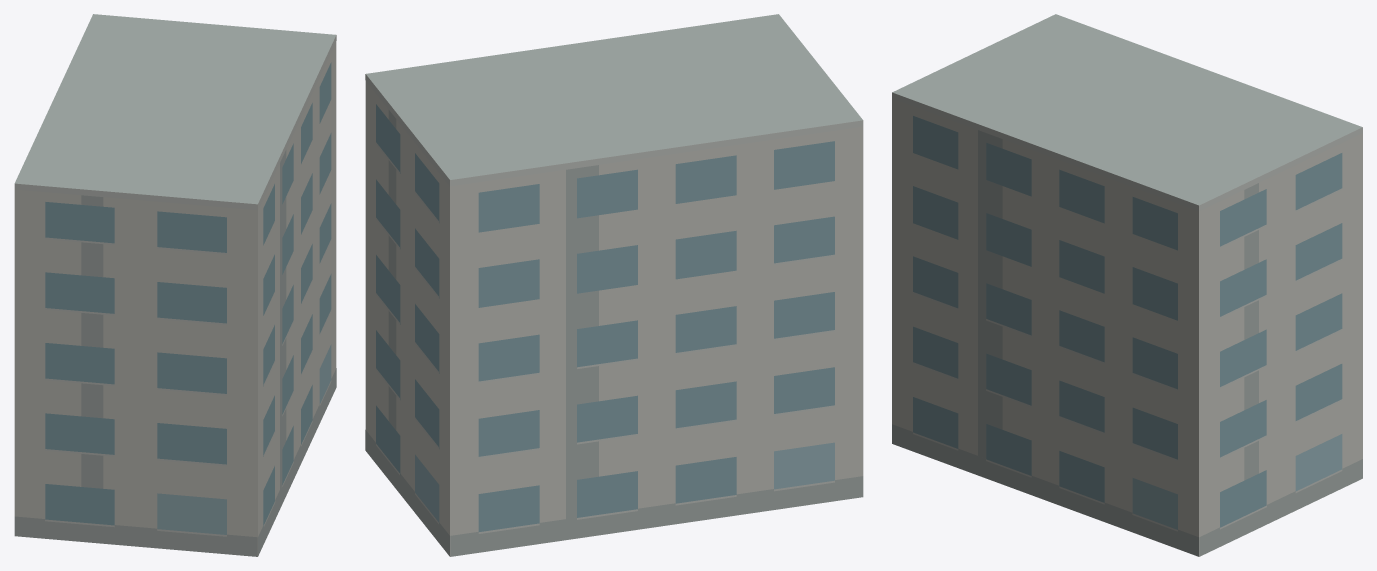
File: survey-upis-32524278.glb
The picture shows the model from 3 angles, left to right: view 1: azimuth 30°, elevation 25°; view 2: azimuth 150°, elevation 25°; view 3: azimuth 270°, elevation 25°; orthographic projection. The views are drawn at different scales.
Parts seen in each view (by area): view 1: survey-upis-32524278.tmp; view 2: survey-upis-32524278.tmp; view 3: survey-upis-32524278.tmp.
Part boxes in pixels (x1,y1,x2,y2): survey-upis-32524278.tmp: (14, 14, 336, 556); survey-upis-32524278.tmp: (365, 14, 863, 556); survey-upis-32524278.tmp: (892, 14, 1362, 556).
Bounding box in the file's own units: 16.73 × 14.3 × 17.37.
